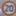20 km speed: (1, 1, 16, 15)
